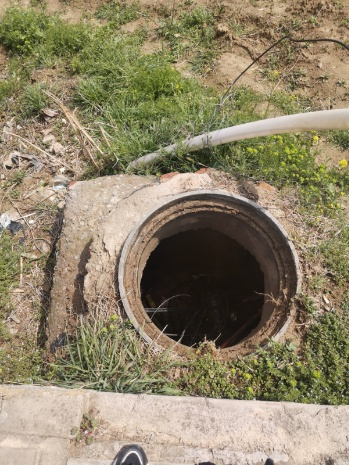lose: (118, 189, 303, 362)
